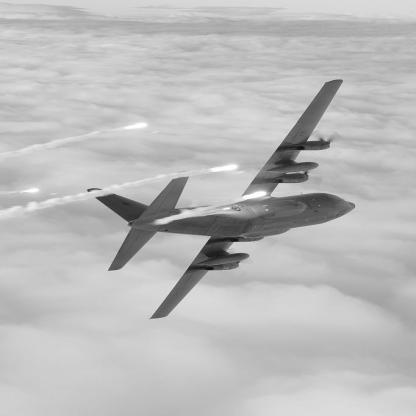C130: (88, 80, 357, 321)
